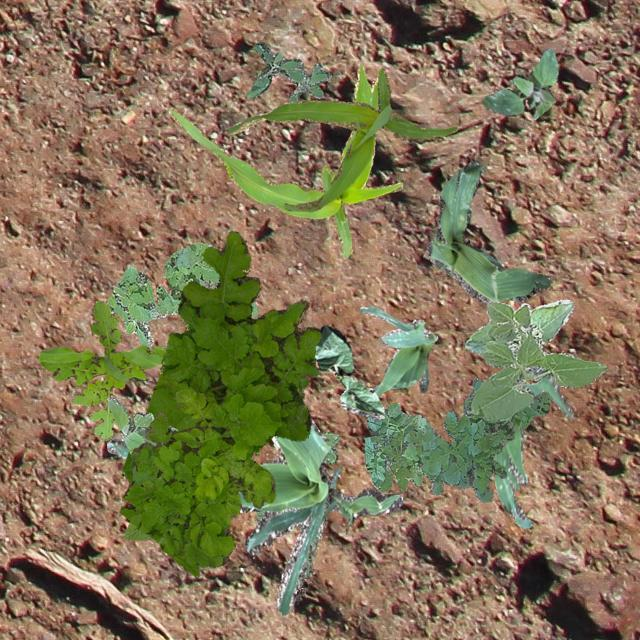crop: (106, 418, 402, 616), (168, 64, 402, 258), (226, 66, 456, 210), (426, 160, 548, 302), (464, 298, 604, 421), (490, 373, 572, 528), (358, 306, 436, 396), (314, 326, 384, 418), (122, 520, 150, 540)
weed: (120, 230, 320, 482), (118, 388, 274, 576), (364, 378, 548, 502), (38, 300, 164, 440), (106, 240, 256, 348), (254, 432, 338, 520), (480, 48, 558, 119), (246, 40, 330, 101), (106, 394, 176, 452), (298, 358, 316, 386)
